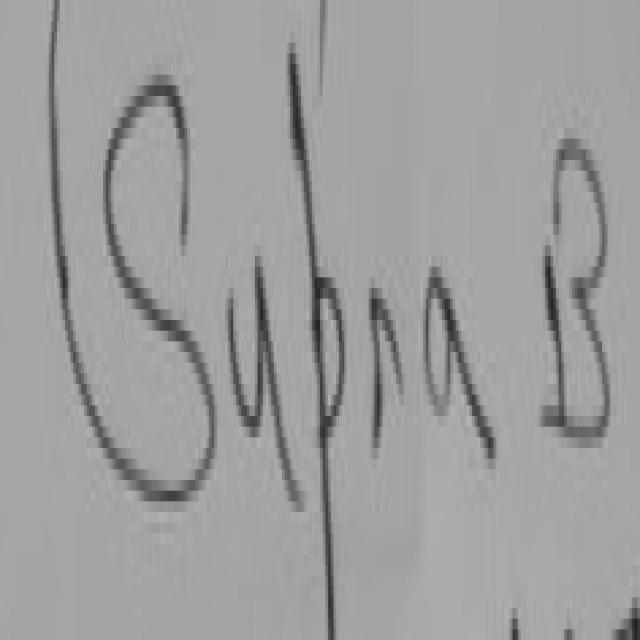B: (529, 88, 618, 505)
S: (79, 24, 225, 550)
a: (410, 218, 492, 514)
p: (302, 155, 355, 640)
r: (363, 214, 404, 512)
u: (222, 201, 304, 541)
